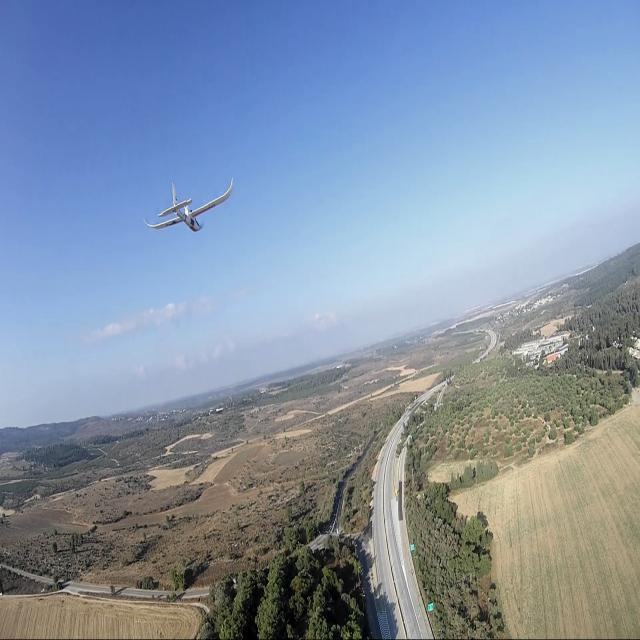iha: (173, 175, 205, 234)
